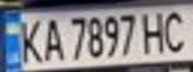7: (63, 14, 87, 61), (118, 10, 142, 56)
8: (84, 12, 106, 60)
9: (103, 11, 124, 57)
A: (39, 15, 66, 63)
C: (160, 7, 193, 54)
H: (136, 8, 172, 54)
K: (15, 15, 45, 64)
